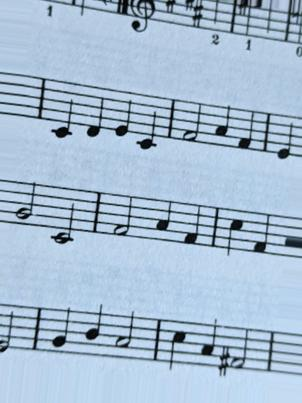A: (196, 314, 219, 376), (152, 195, 173, 251), (211, 99, 233, 151)
B: (81, 301, 103, 362)
D: (85, 80, 105, 142)
E: (112, 84, 134, 142), (274, 107, 296, 165)
F: (248, 208, 273, 260), (179, 199, 202, 252), (235, 103, 257, 155)
G: (49, 304, 74, 359)
HC: (165, 315, 187, 376), (223, 203, 245, 262)
LC: (132, 86, 162, 154), (48, 74, 77, 144)
